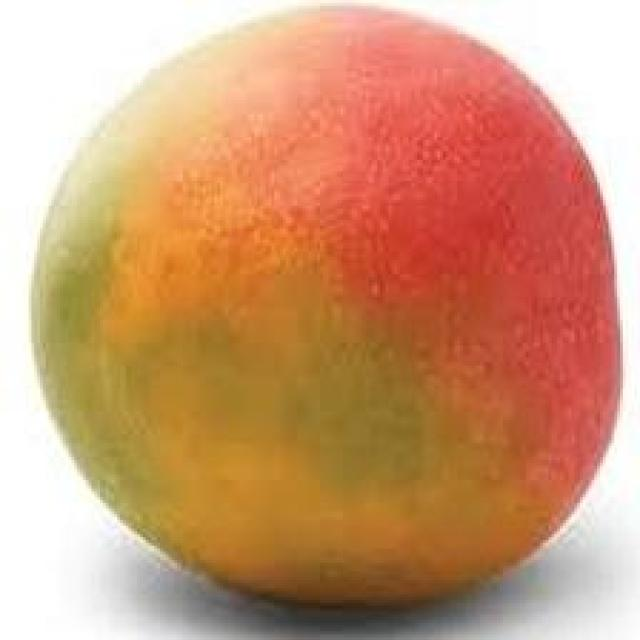Good_Mango: (29, 6, 626, 617)
